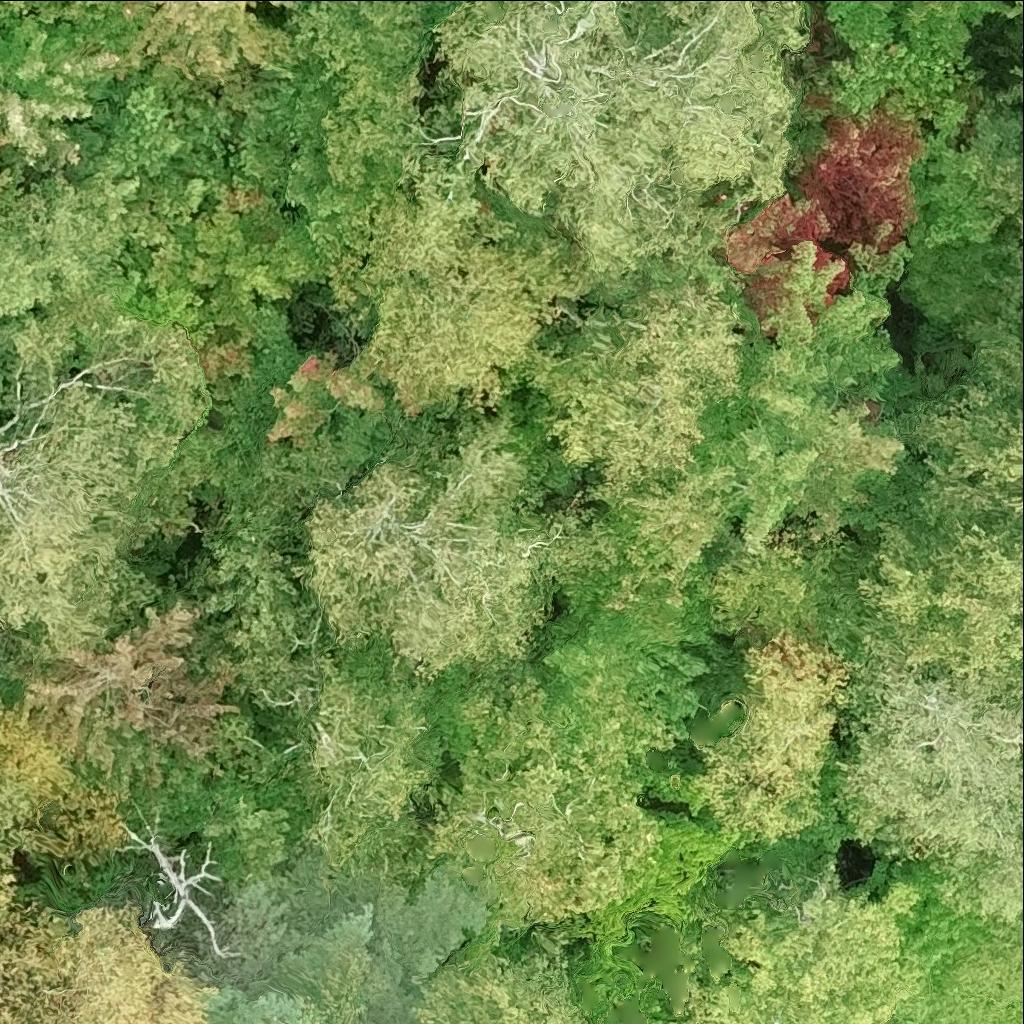crown: (427, 0, 808, 282), (297, 415, 611, 691), (0, 294, 209, 656), (703, 240, 905, 559), (353, 154, 584, 413), (425, 680, 654, 930), (835, 637, 1023, 922), (850, 380, 1023, 678), (515, 287, 745, 505), (278, 0, 457, 261), (15, 601, 241, 766), (674, 876, 924, 1023), (693, 630, 849, 845), (291, 655, 429, 871), (0, 905, 217, 1023), (0, 17, 129, 178), (600, 465, 735, 612), (158, 763, 314, 881), (799, 109, 923, 255), (907, 96, 1023, 247), (108, 0, 298, 91), (955, 206, 1023, 410), (413, 956, 580, 1023), (901, 0, 1005, 63), (953, 915, 1023, 1005), (641, 646, 712, 723), (0, 771, 28, 906), (826, 0, 894, 48), (0, 0, 49, 33)
